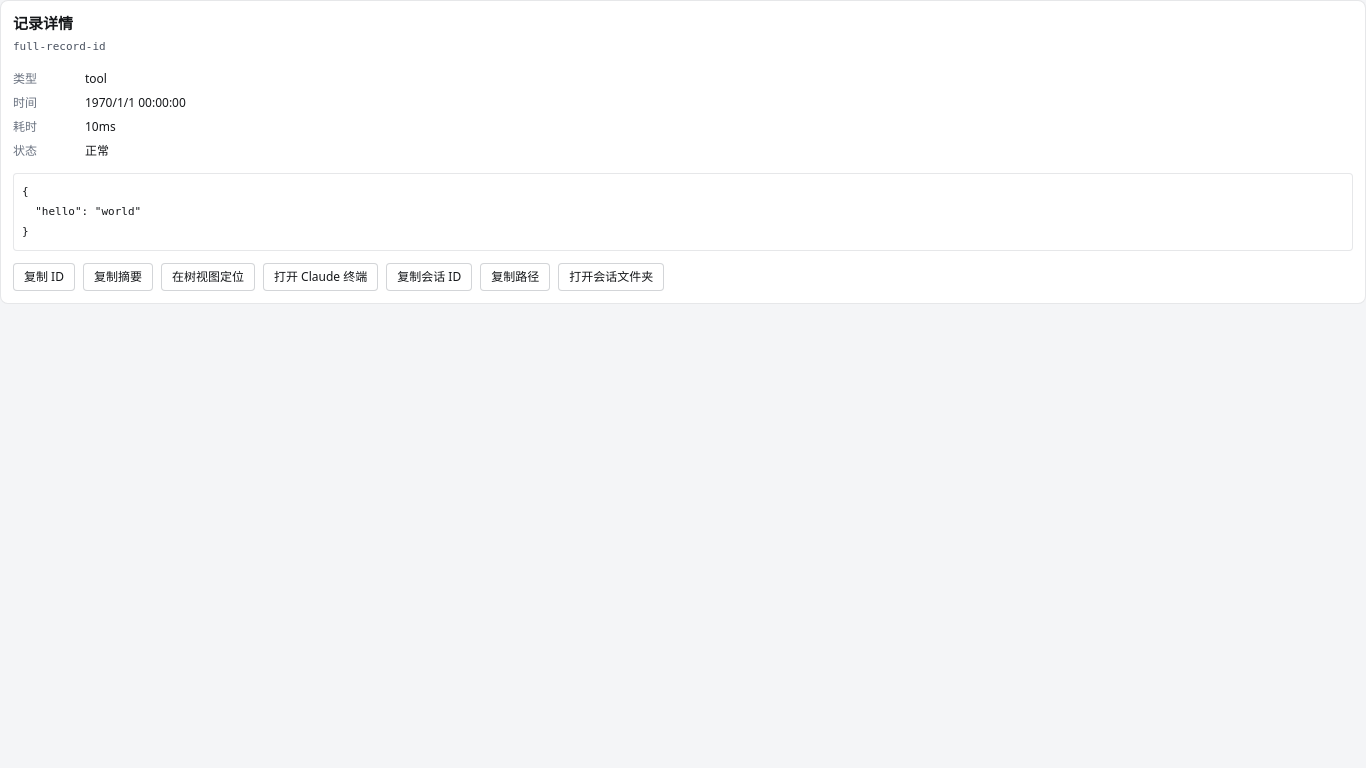
Test case: 复制成功后给出成功提示，不只是静默写入剪贴板
Click the button "复制 ID". click: (44,277)
box: [13,263,75,291]
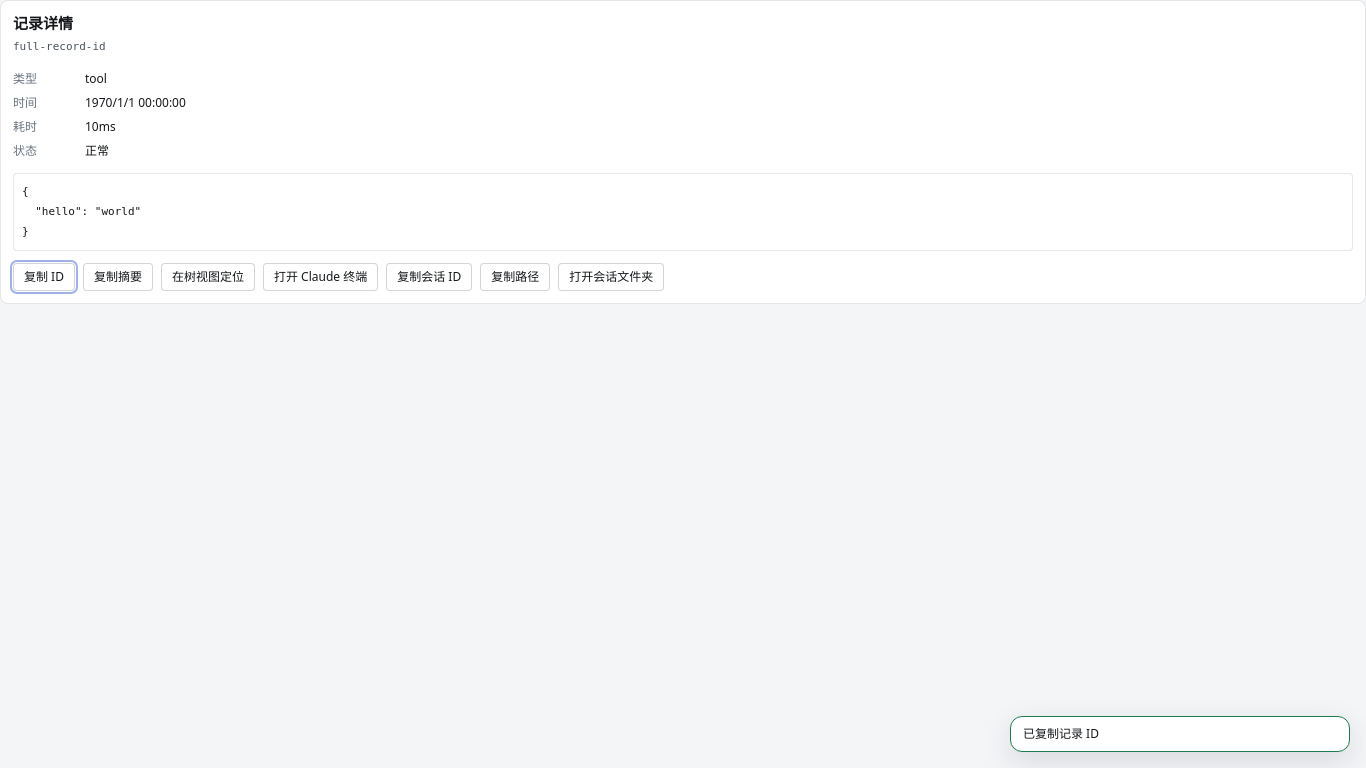
Expected: the text "已复制记录 ID" is shown, [1010,716,1350,752]
Click the button "复制摘要". click: (118,277)
box: [83,263,153,291]
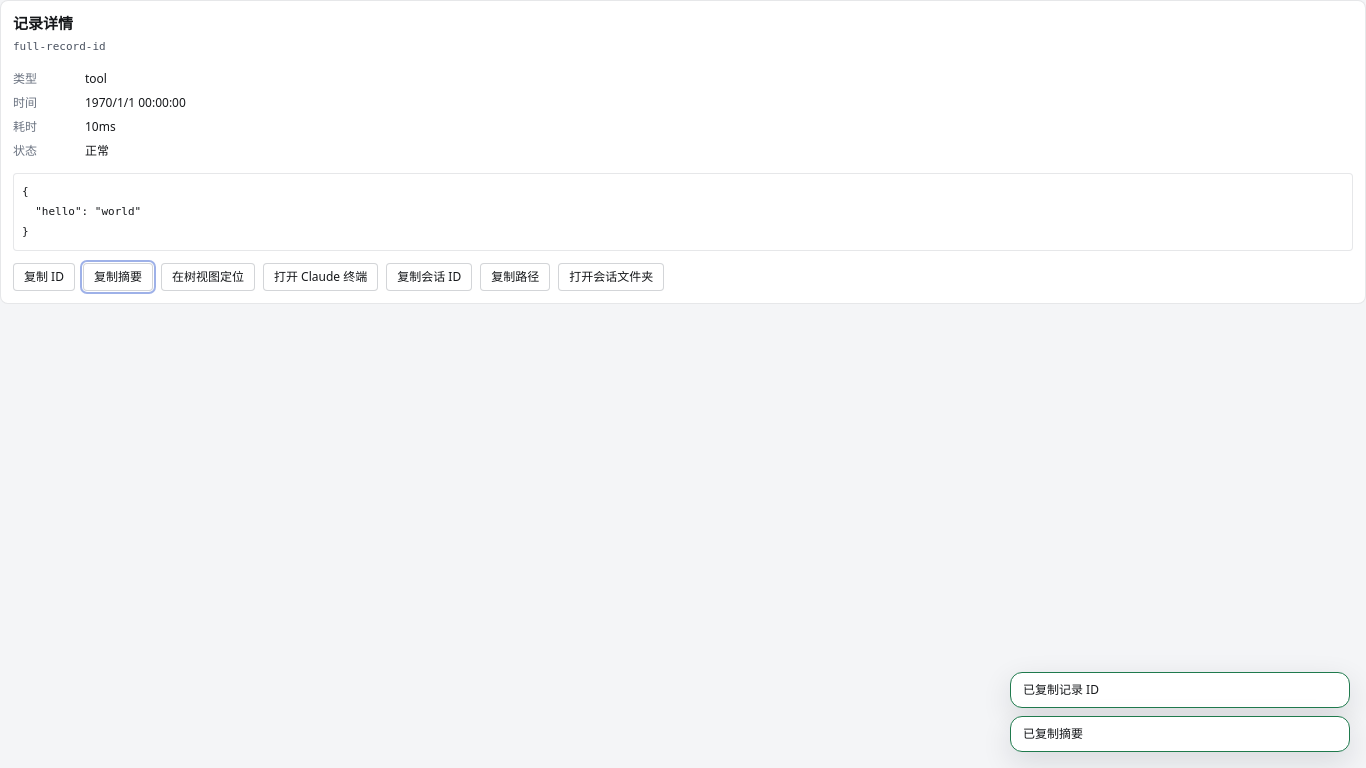
Expected: the text "已复制摘要" is shown, [1010,716,1350,752]
Click the button "复制会话 ID". click: (429,277)
box: [386,263,472,291]
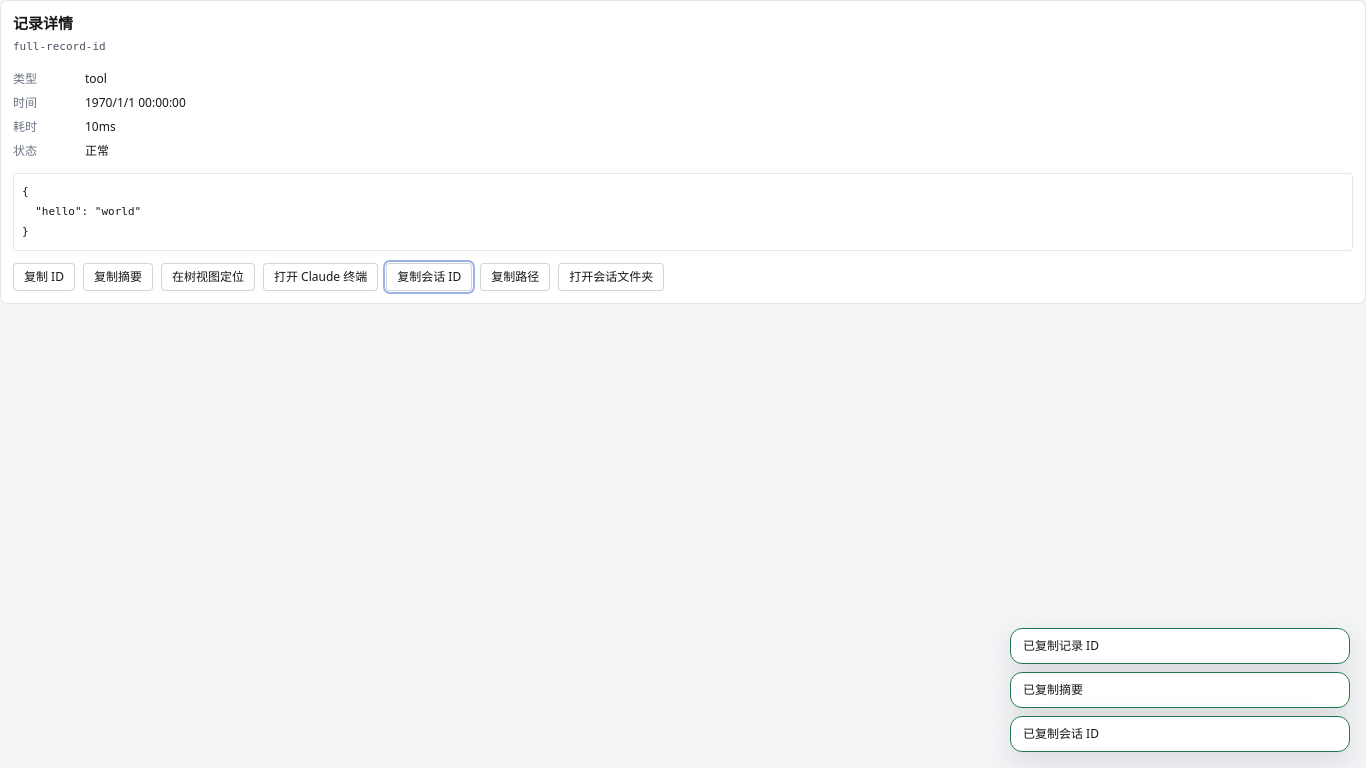
Expected: the text "已复制会话 ID" is shown, [1010,716,1350,752]
Click the button "复制路径". click: (515,277)
box: [480,263,550,291]
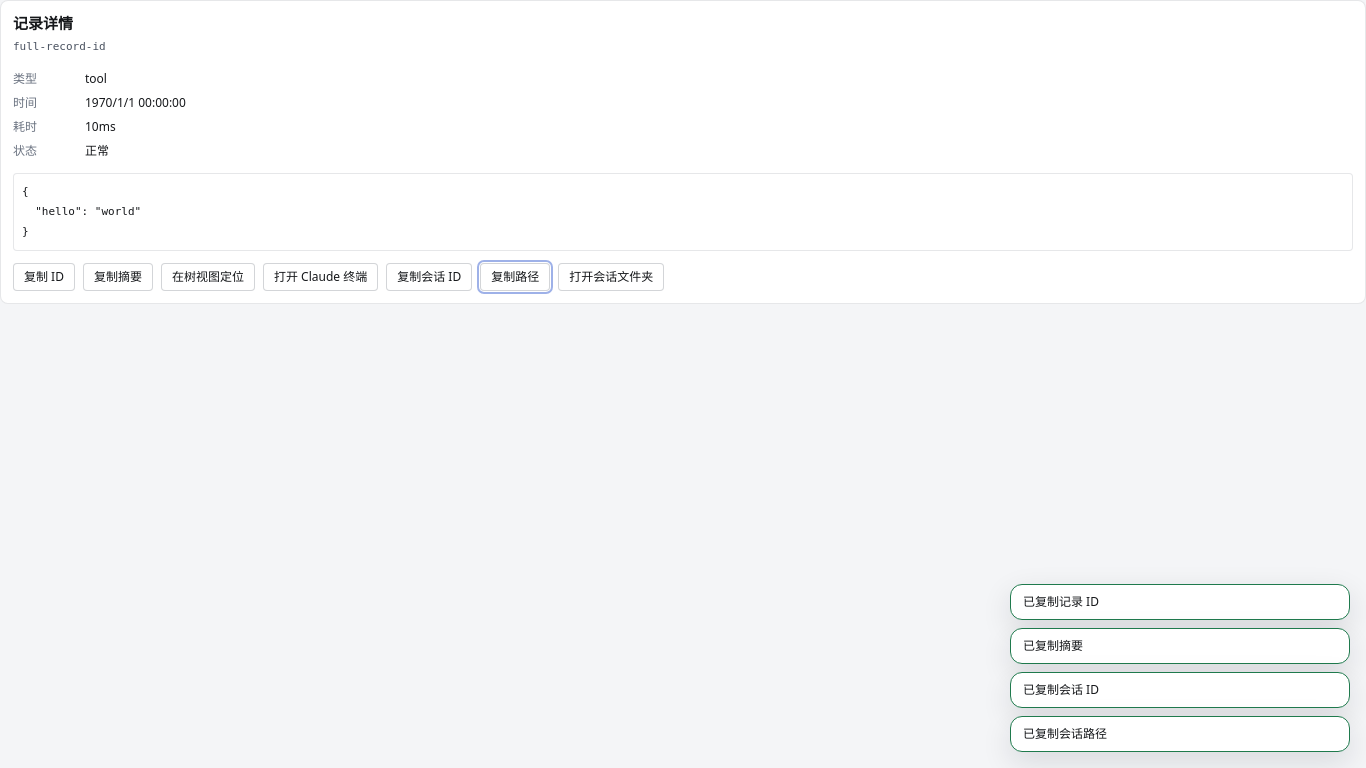
Expected: the text "已复制会话路径" is shown, [1010,716,1350,752]
